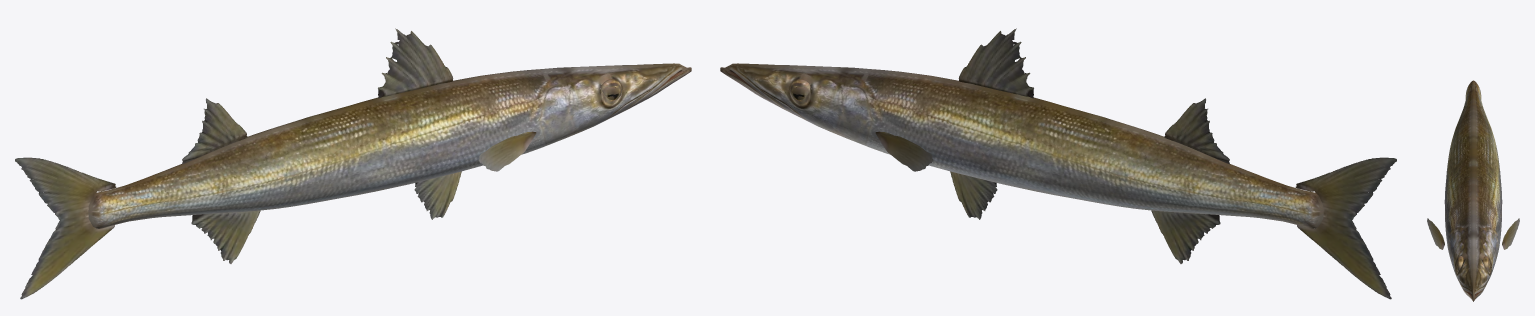
File: fish_kamasu.glb
The picture shows the model from 3 angles, left to right: view 1: azimuth 30°, elevation 25°; view 2: azimuth 150°, elevation 25°; view 3: azimuth 270°, elevation 25°; orthographic projection. The views are drawn at different scales.
Visible parts, largest first — view 1: hi, lo; view 2: hi, lo; view 3: hi, lo.
Boxes of the visible parts, <box> form: hi: <box>15,28,691,299</box>; lo: <box>15,64,690,297</box>; hi: <box>720,28,1396,299</box>; lo: <box>721,64,1396,298</box>; hi: <box>1431,80,1515,301</box>; lo: <box>1427,84,1519,300</box>.
Bounding box in the file's own units: 1 × 0.2855 × 0.1707.
Materials: 1 (1 with a texture image).
